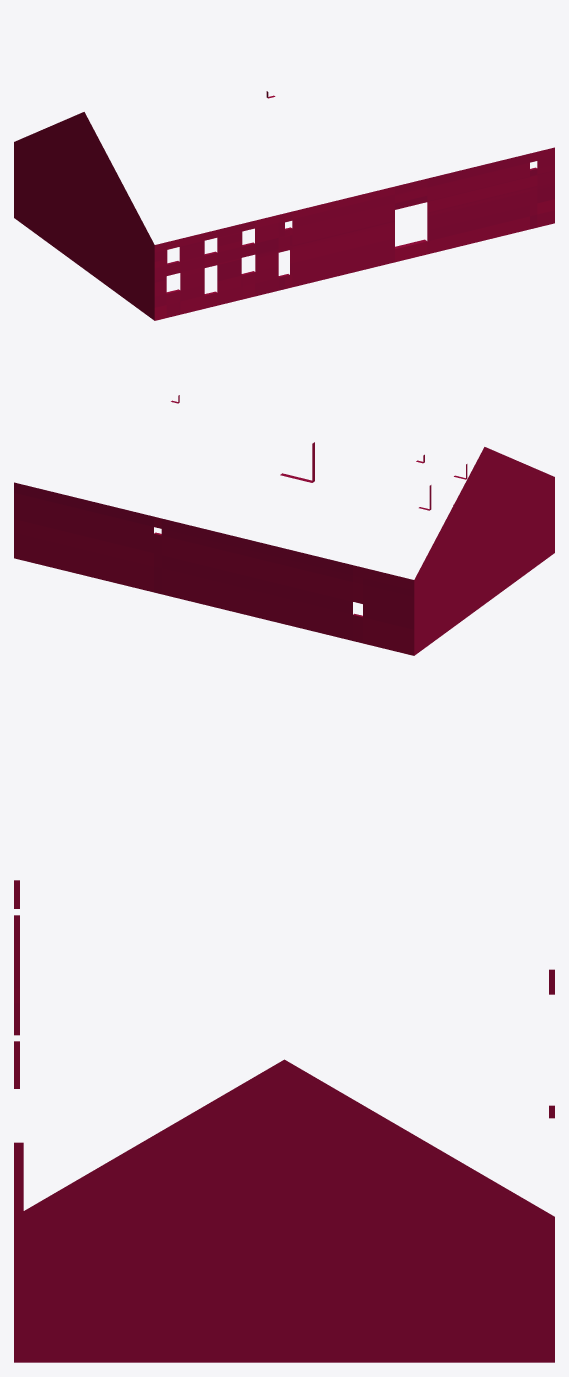
File: SM_Bld_049_Masonry.glb
3 renders of one model, top to bottom at view 1: azimuth 30°, elevation 25°; view 2: azimuth 150°, elevation 25°; view 3: azimuth 270°, elevation 25°, orthographic. The views are drawn at different scales.
Parts seen in each view (by area): view 1: SM_Bld_049_Masonry; view 2: SM_Bld_049_Masonry; view 3: SM_Bld_049_Masonry.
Part boxes in pixels (bbox=[...]): SM_Bld_049_Masonry: bbox=[14, 91, 554, 320]; SM_Bld_049_Masonry: bbox=[14, 395, 554, 655]; SM_Bld_049_Masonry: bbox=[14, 880, 554, 1362].
Bounding box in the file's own units: 32 × 12.06 × 19.5.
